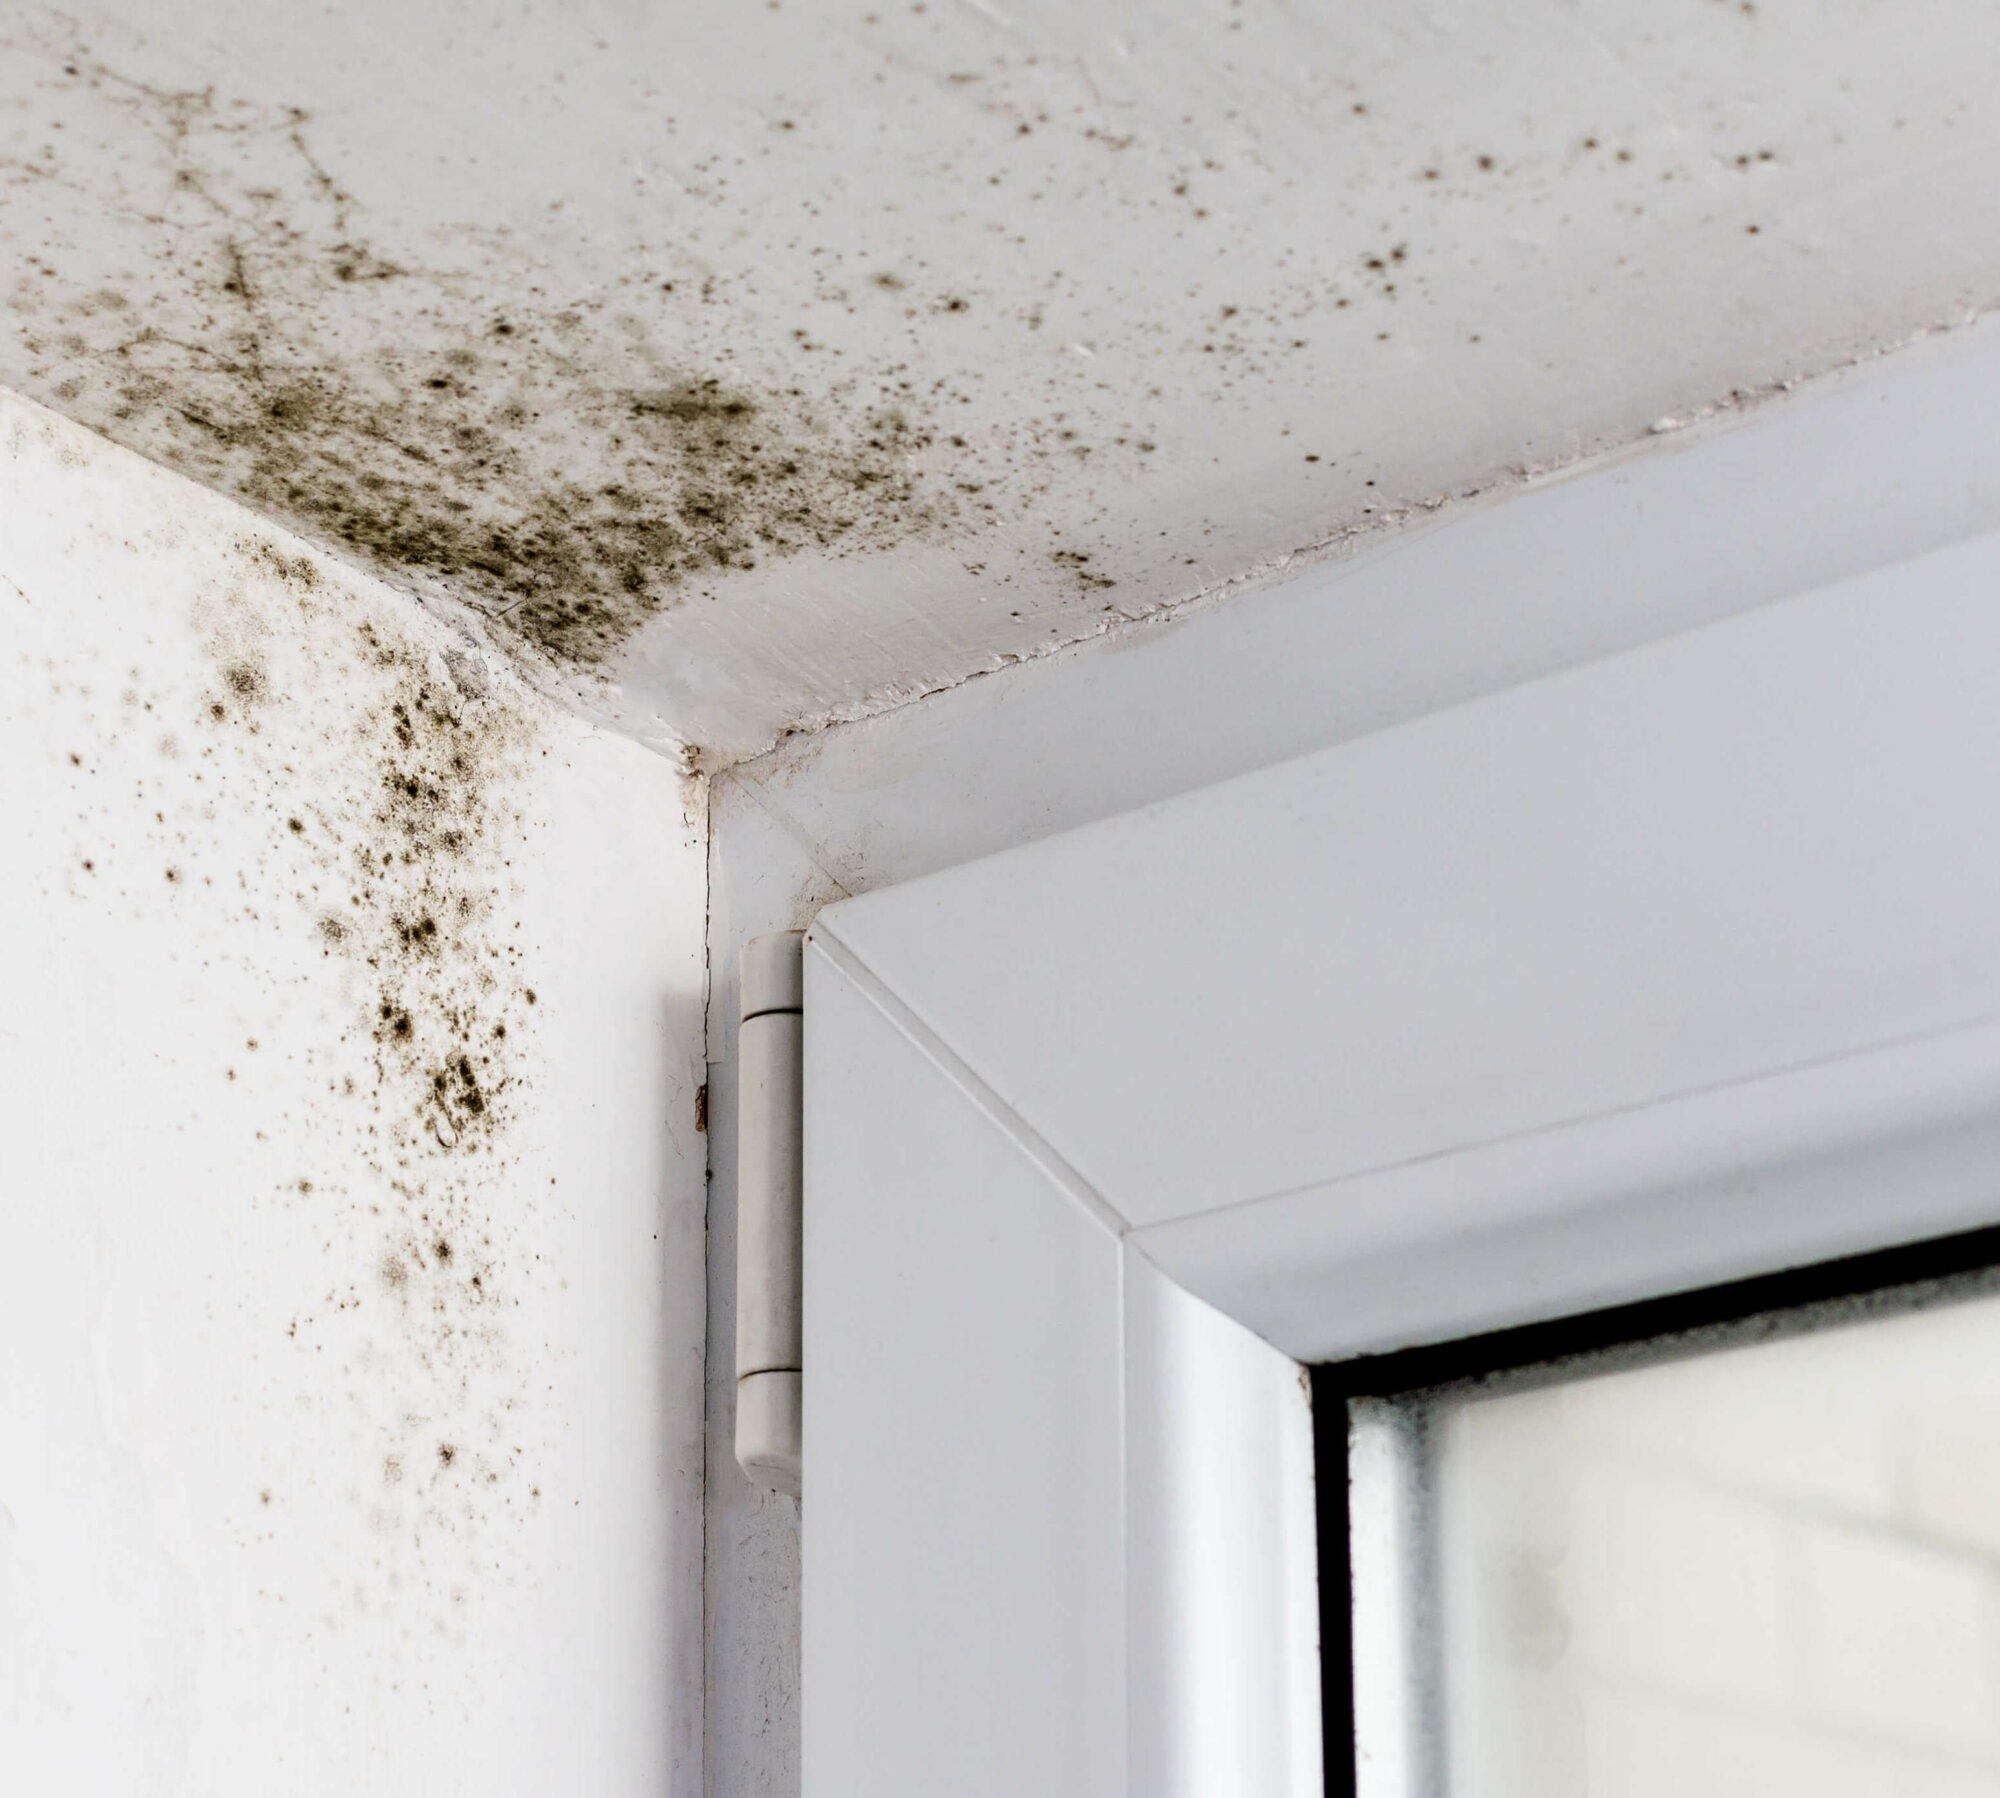schimmel: (458, 361, 872, 620), (299, 699, 623, 913), (365, 998, 578, 1198), (257, 345, 465, 536), (186, 628, 323, 741)
